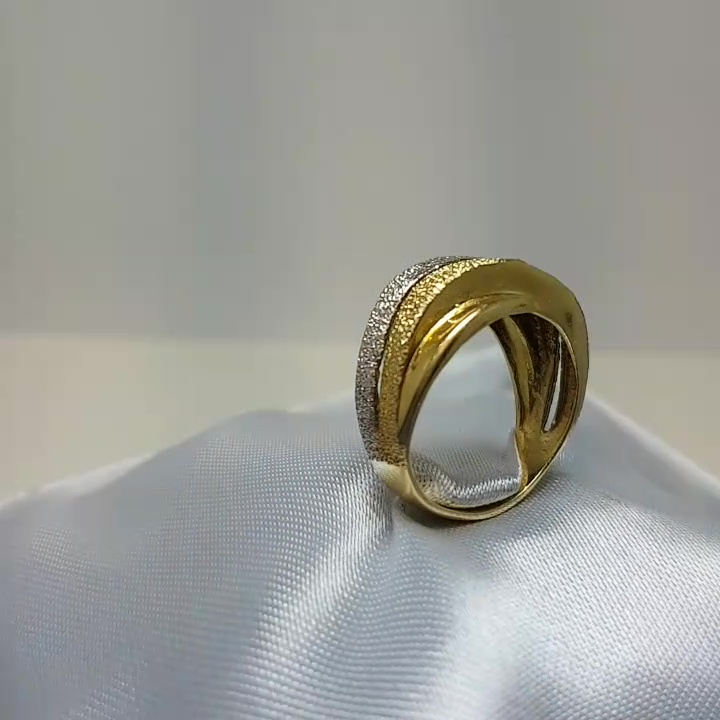Ring 5: (325, 241, 616, 537)
